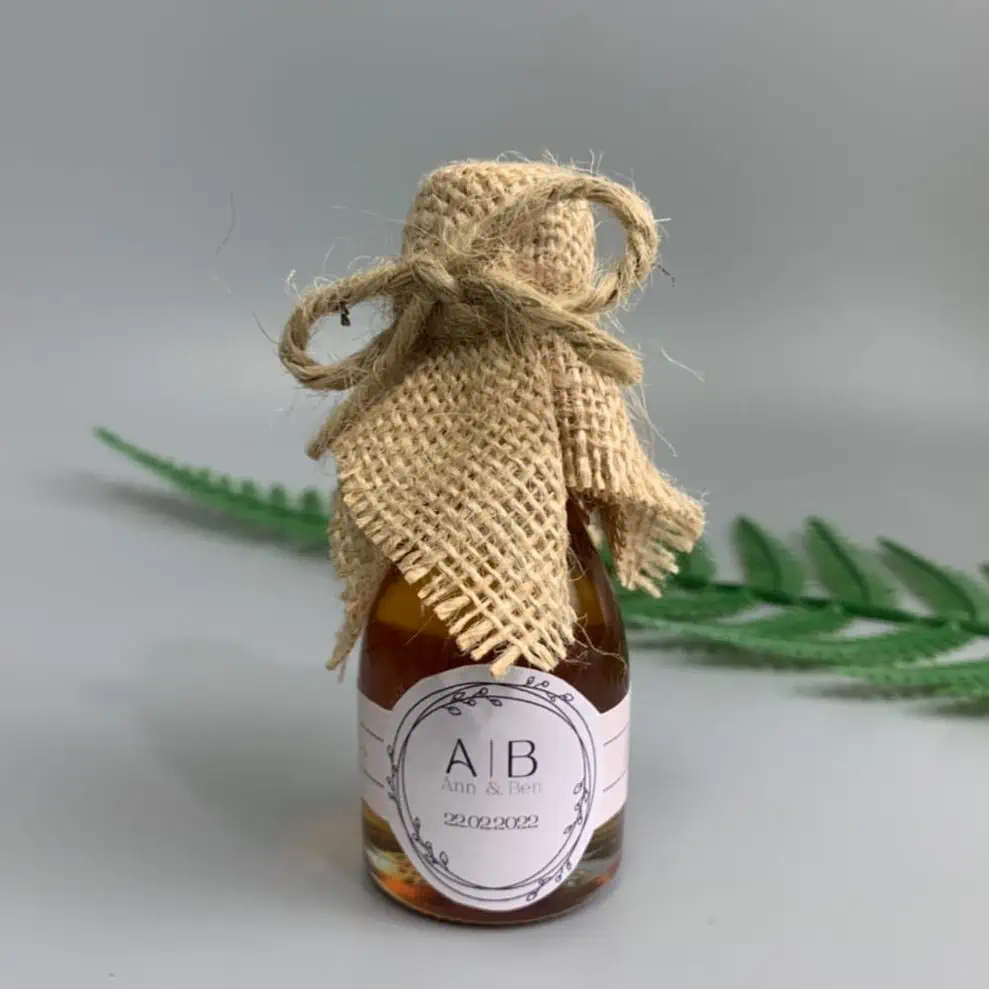glass_bottle: (244, 140, 729, 948)
